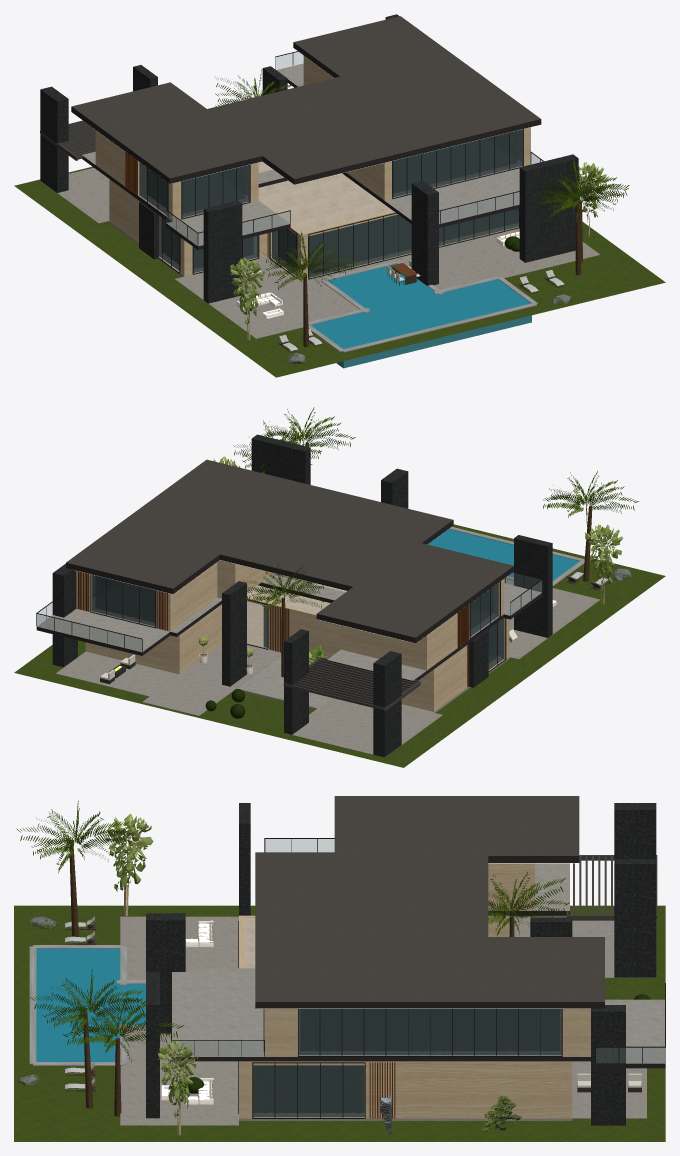
Rendered from margaux.glb.
The picture shows the model from 3 angles, top to bottom: view 1: azimuth 30°, elevation 25°; view 2: azimuth 150°, elevation 25°; view 3: azimuth 270°, elevation 25°; orthographic projection. The views are drawn at different scales.
Visible parts, largest first — view 1: m_Material_17, m_Material_12, m_Material_19, m_Material_8, m_Material_1, m_Material_11, m_Material_2, m_Material_14, m_Material_6, m_Material_7, m_Material_27, m_Material_9 (+8 smaller); view 2: m_Material_17, m_Material_12, m_Material_6, m_Material_19, m_Material_1, m_Material_14, m_Material_27, m_Material_8, m_Material_15, m_Material_11, m_Material_16, m_Material_10 (+8 smaller); view 3: m_Material_17, m_Material_19, m_Material_12, m_Material_6, m_Material_8, m_Material_14, m_Material_11, m_Material_1, m_Material_2, m_Material_27, m_Material_0.003, m_Material_16 (+11 smaller).
Part boxes in pixels (<box>): m_Material_17: <box>71,16,541,184</box>; m_Material_12: <box>40,14,578,303</box>; m_Material_19: <box>14,166,665,377</box>; m_Material_8: <box>139,129,522,277</box>; m_Material_1: <box>41,168,600,338</box>; m_Material_11: <box>148,131,518,272</box>; m_Material_2: <box>311,263,530,349</box>; m_Material_14: <box>81,63,522,249</box>; m_Material_6: <box>95,55,530,280</box>; m_Material_7: <box>245,130,521,232</box>; m_Material_27: <box>215,69,629,290</box>; m_Material_9: <box>137,51,543,279</box>; m_Material_17: <box>66,459,514,643</box>; m_Material_12: <box>52,434,552,757</box>; m_Material_6: <box>76,560,509,711</box>; m_Material_19: <box>14,524,665,767</box>; m_Material_1: <box>56,578,599,757</box>; m_Material_14: <box>36,574,542,681</box>; m_Material_27: <box>233,407,638,612</box>; m_Material_8: <box>91,574,503,669</box>; m_Material_15: <box>283,657,420,711</box>; m_Material_11: <box>96,576,496,662</box>; m_Material_16: <box>37,573,541,651</box>; m_Material_10: <box>78,571,469,687</box>; m_Material_17: <box>255,796,604,1008</box>; m_Material_19: <box>14,905,665,1141</box>; m_Material_12: <box>146,803,656,1125</box>; m_Material_6: <box>239,863,590,1118</box>; m_Material_8: <box>253,1009,561,1117</box>; m_Material_14: <box>171,863,665,1068</box>; m_Material_11: <box>254,1009,559,1112</box>; m_Material_1: <box>120,916,655,1125</box>; m_Material_2: <box>36,948,145,1061</box>; m_Material_27: <box>16,800,569,1062</box>; m_Material_0.003: <box>106,813,198,1135</box>; m_Material_16: <box>172,839,664,1062</box>.
Size of the model in its own units: 33.48 by 10.3 by 38.64.
32 materials, 32 textured.
